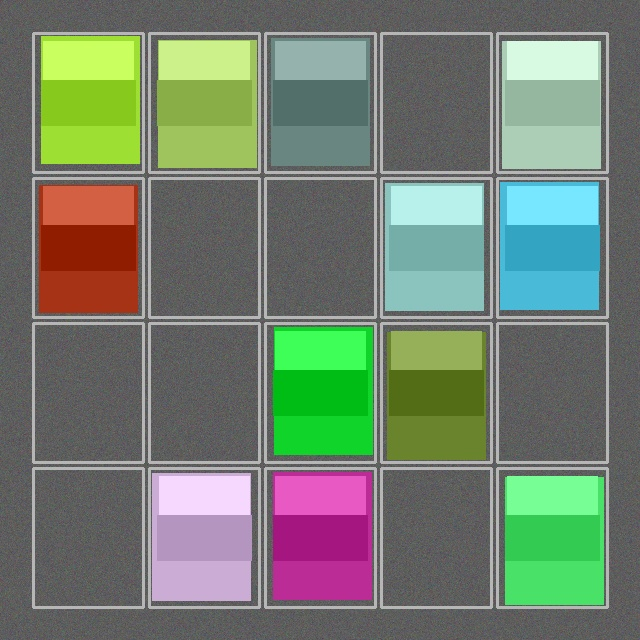space-empty: (383, 35, 489, 170), (151, 180, 257, 315), (267, 180, 373, 315), (35, 325, 141, 460), (151, 325, 257, 460), (499, 325, 605, 460), (35, 470, 141, 605), (383, 470, 489, 605)
space-occupied: (35, 35, 141, 170), (151, 35, 257, 170), (267, 35, 373, 170), (499, 35, 605, 170), (35, 180, 141, 315), (383, 180, 489, 315), (499, 180, 605, 315), (267, 325, 373, 460), (383, 325, 489, 460), (151, 470, 257, 605), (267, 470, 373, 605), (499, 470, 605, 605)
